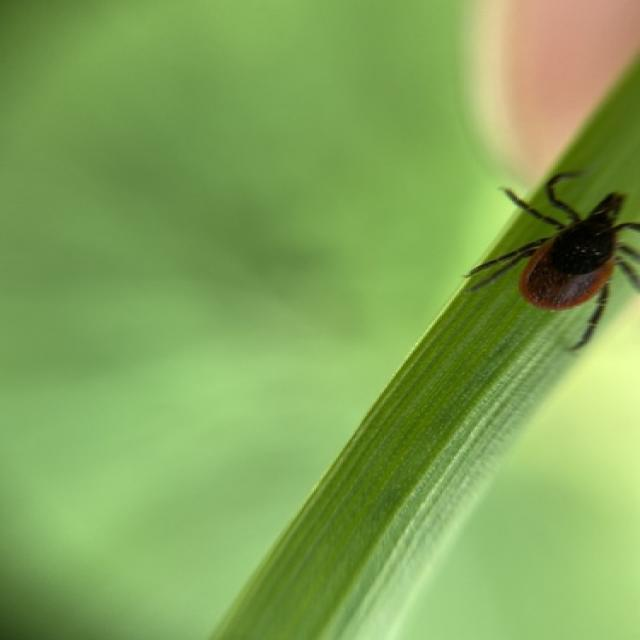Ixodes Ricinus-F: (463, 170, 640, 349)
